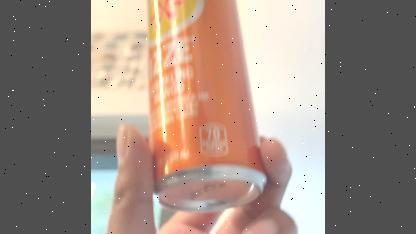Can: (137, 0, 298, 225)
